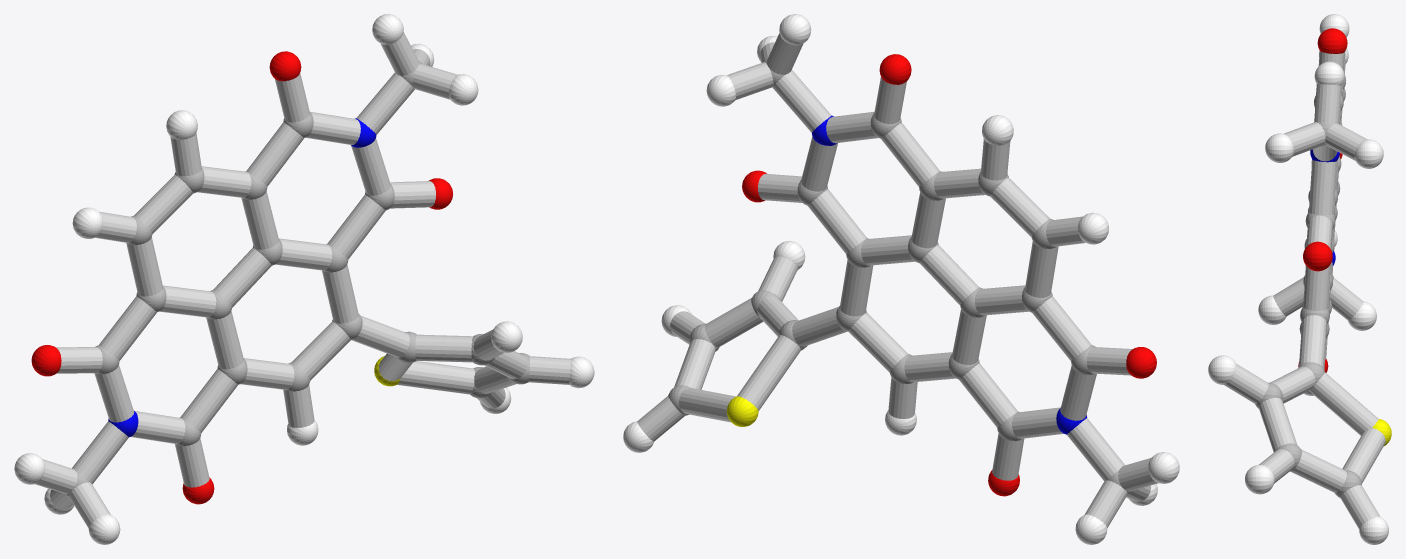
Rendered from Dimethyl_Naphthalene_Dicarboximide_Phi_5_Theta_60_Thiophene.glb.
The picture shows the model from 3 angles, left to right: view 1: azimuth 30°, elevation 25°; view 2: azimuth 150°, elevation 25°; view 3: azimuth 270°, elevation 25°; orthographic projection. The views are drawn at different scales.
Visible parts, largest first — view 1: grp14119, grp7241, grp1, grp12309, grp11585; view 2: grp14119, grp7241, grp1, grp12309, grp13757, grp11585; view 3: grp14119, grp7241, grp1, grp12309, grp13757.
Boxes of the visible parts, box(x1,y1,x2,y2) form: grp14119: box(35, 32, 570, 527); grp7241: box(14, 14, 594, 544); grp1: box(65, 60, 530, 497); grp12309: box(31, 51, 452, 504); grp11585: box(108, 118, 376, 437); grp14119: box(637, 33, 1158, 527); grp7241: box(623, 14, 1179, 544); grp1: box(668, 59, 1131, 494); grp12309: box(742, 54, 1156, 496); grp13757: box(726, 396, 758, 426); grp11585: box(812, 115, 1087, 434); grp14119: box(1224, 51, 1385, 528); grp7241: box(1208, 14, 1388, 544); grp1: box(1255, 74, 1361, 497); grp12309: box(1298, 28, 1347, 372); grp13757: box(1372, 419, 1391, 446).
Size of the model in its own units: 11.86 by 9.32 by 3.69.
